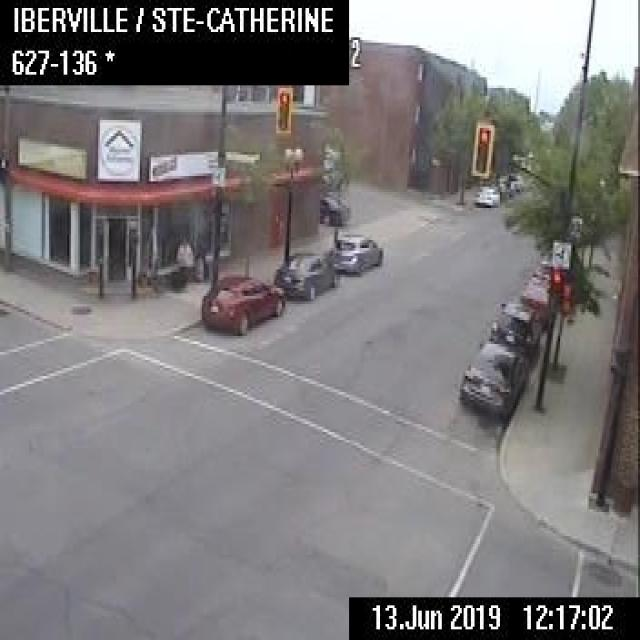pedestrian: (174, 232, 194, 291)
vehicle: (458, 337, 527, 418), (200, 273, 284, 332), (478, 296, 540, 366), (272, 249, 338, 299), (329, 232, 382, 274), (520, 272, 550, 324), (318, 192, 349, 224), (474, 182, 499, 204), (497, 170, 521, 192), (534, 250, 551, 273)
